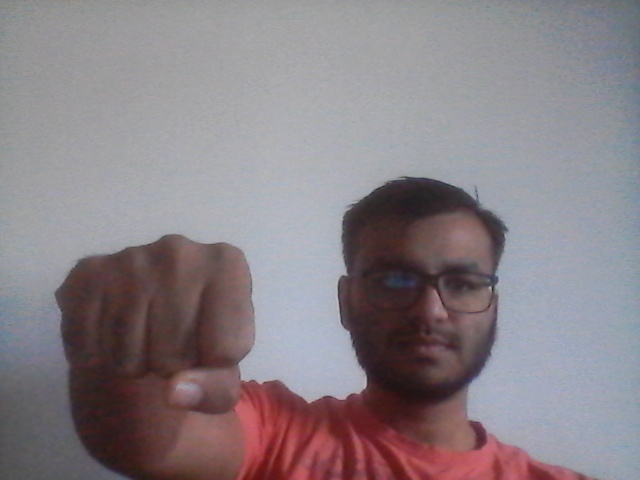Thanks: (49, 229, 276, 414)
